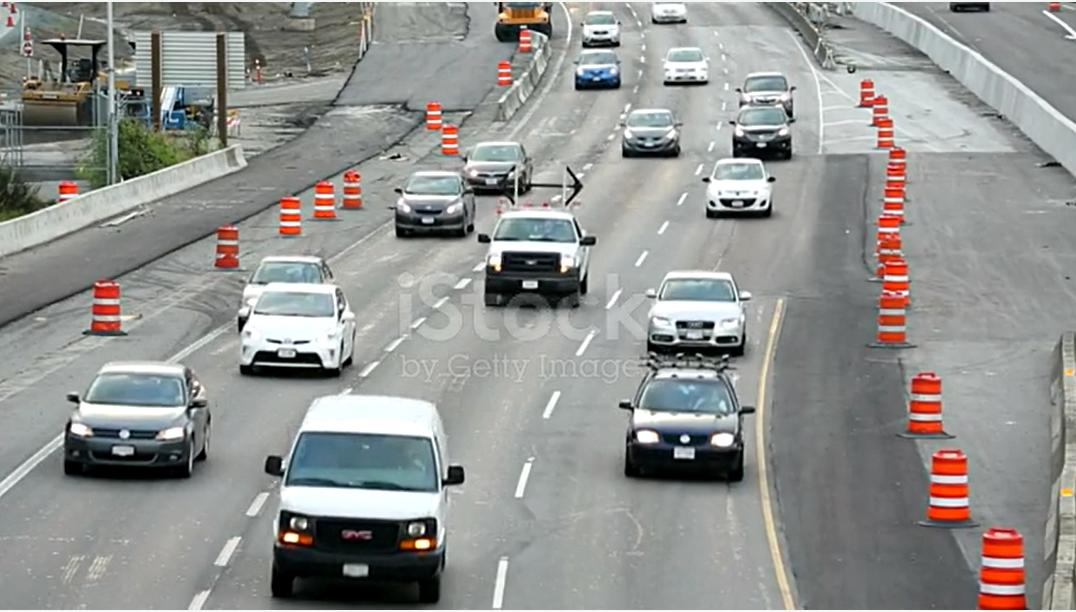car: (261, 377, 482, 612), (609, 334, 770, 526), (474, 153, 623, 336), (59, 361, 224, 481), (626, 255, 751, 365), (239, 273, 376, 364), (383, 157, 484, 240), (717, 97, 812, 177), (237, 229, 324, 309), (691, 157, 776, 226), (723, 57, 808, 116), (619, 97, 690, 165), (659, 33, 714, 93), (463, 133, 518, 188), (567, 47, 640, 88), (569, 5, 632, 49)
